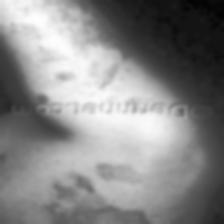Non-Cancerous Skin Condition: (48, 165, 151, 224), (41, 46, 133, 86)
